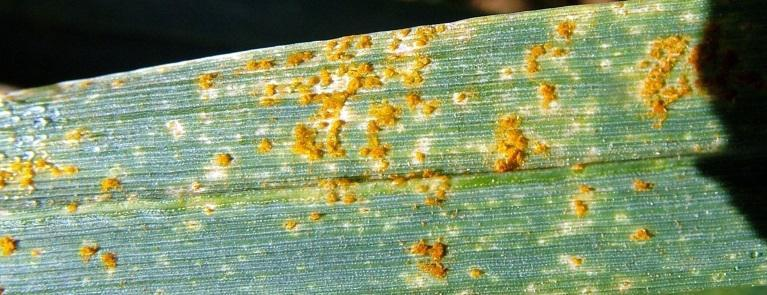Wheat: (215, 132, 678, 285), (1, 110, 208, 285), (318, 32, 447, 124), (526, 23, 592, 102), (641, 31, 694, 126), (241, 52, 315, 116)
